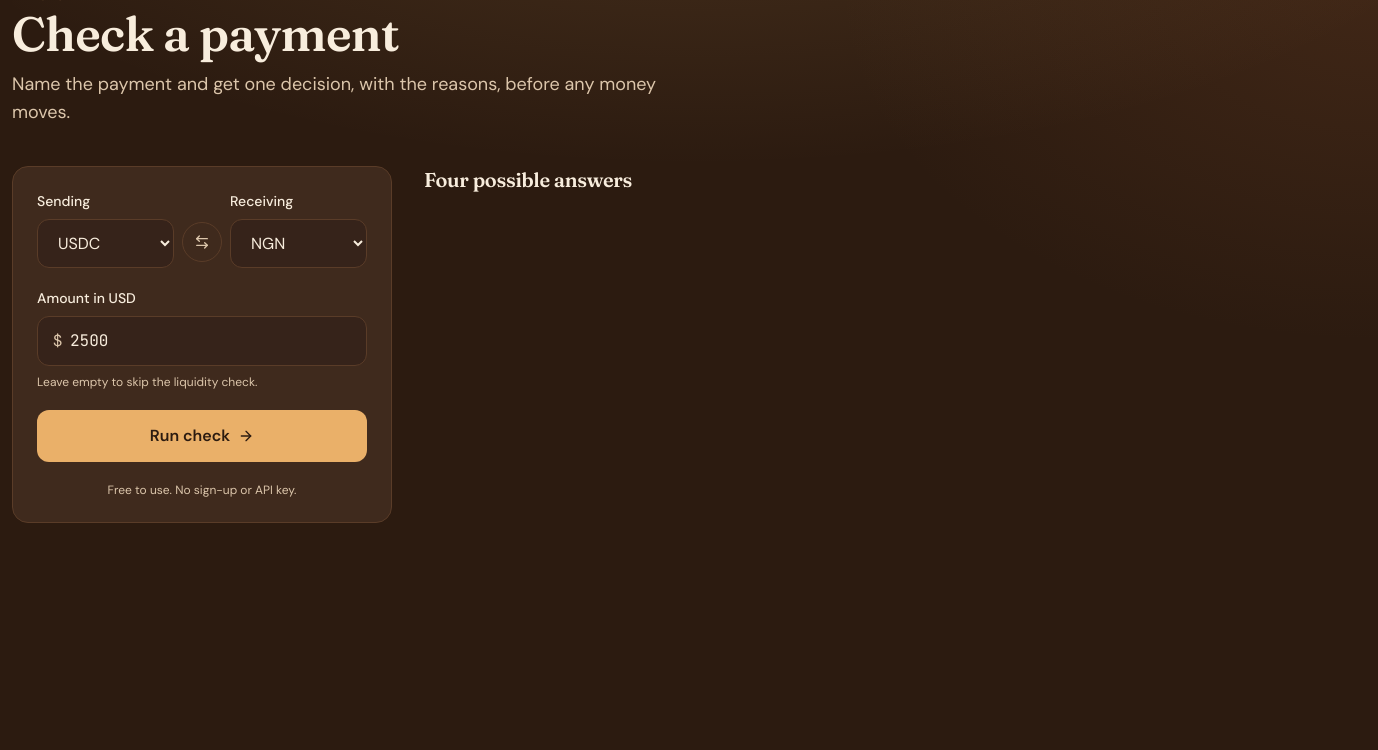
Scenario: PredictionForm (Check a payment) › skips the amount when it is empty
The image size is (1378, 750).
Clear the number field labelled "Amount in USD" at (202,341), box [37,316,367,366]
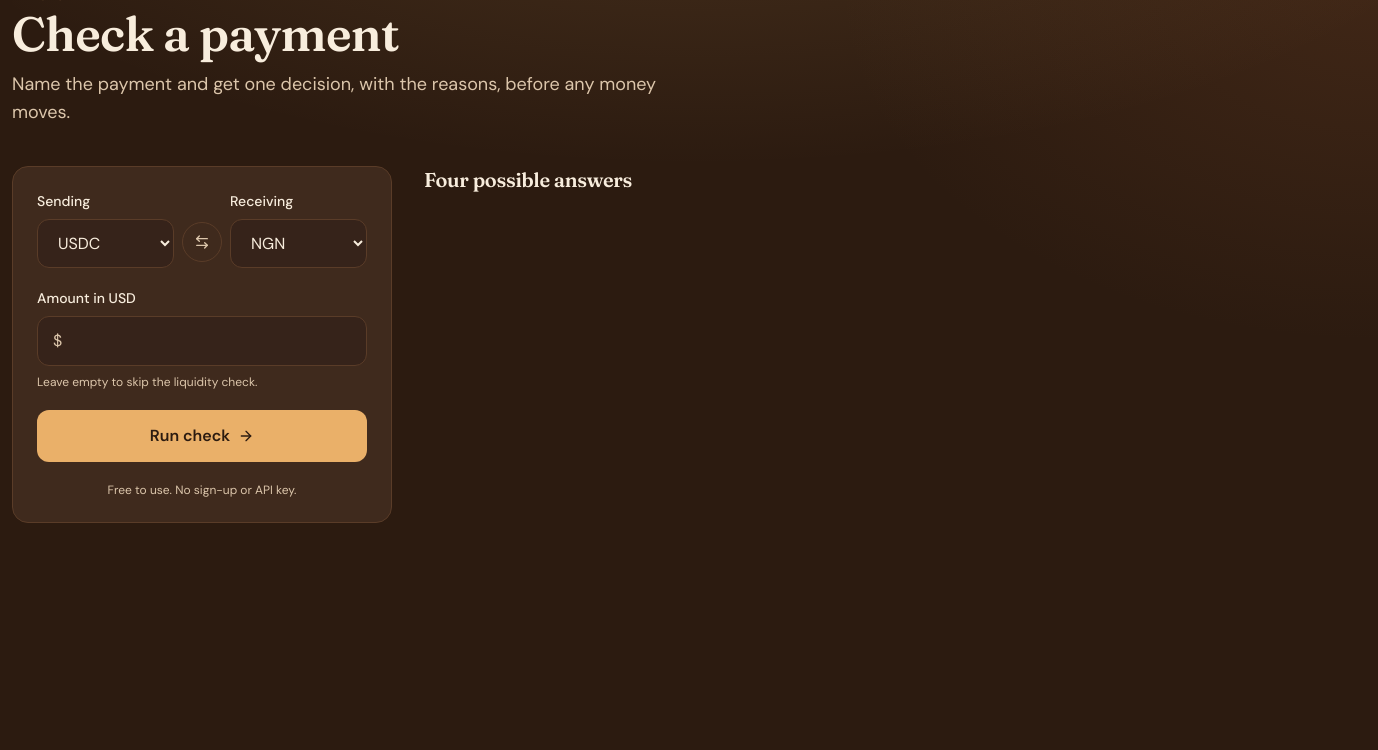
Click the button "Run check" at (202,436), box [37,410,367,462]
(page scrolled)
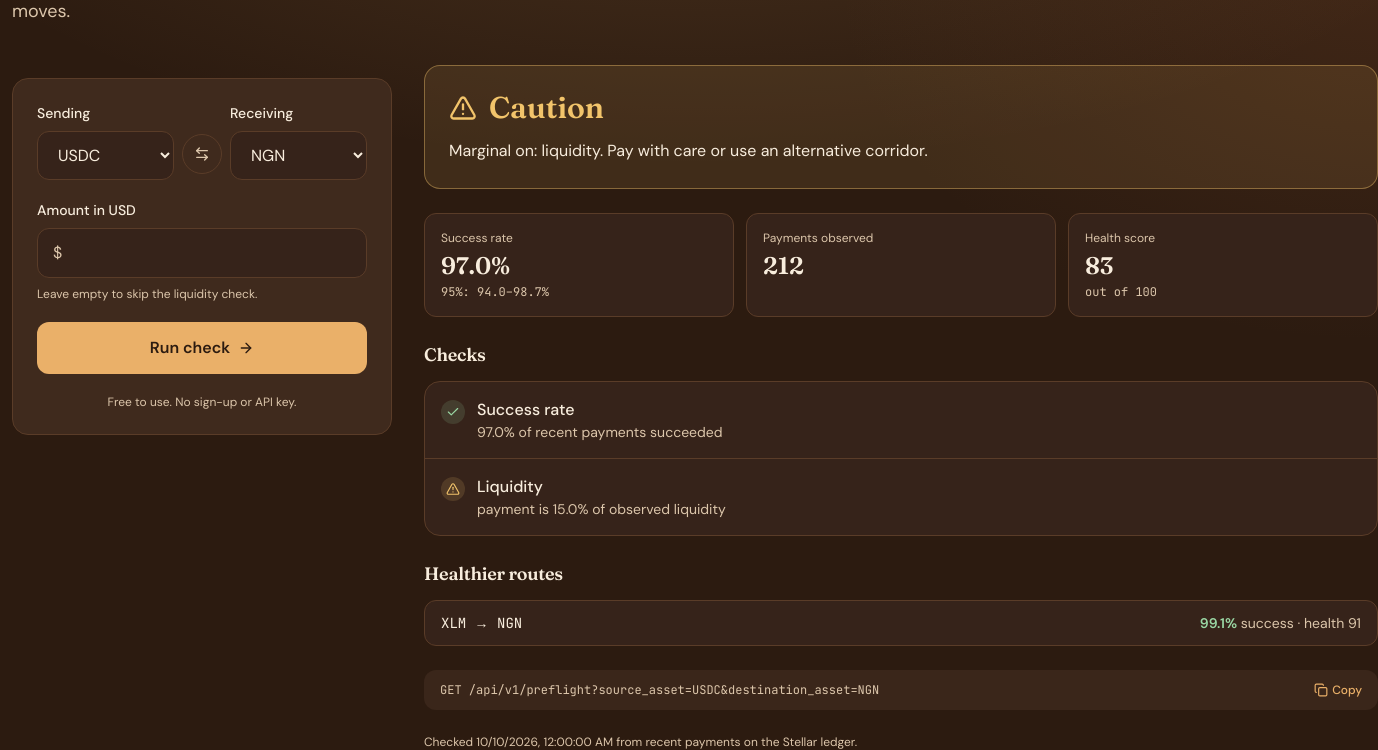
Expected: the element with test id "preflight-result" is shown
